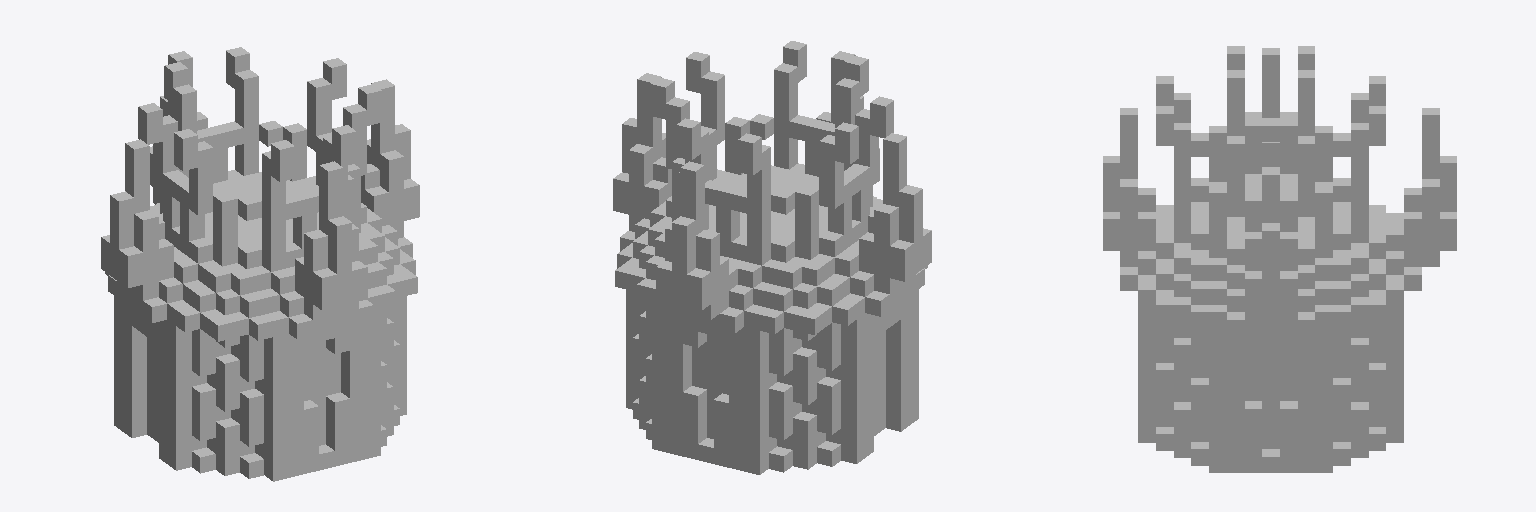
Rendered from Safari_tower2.obj.
The picture shows the model from 3 angles: view 1: azimuth 30°, elevation 25°; view 2: azimuth 150°, elevation 25°; view 3: azimuth 270°, elevation 25°; orthographic projection.
Bounding box in the file's own units: 19 × 20 × 20.